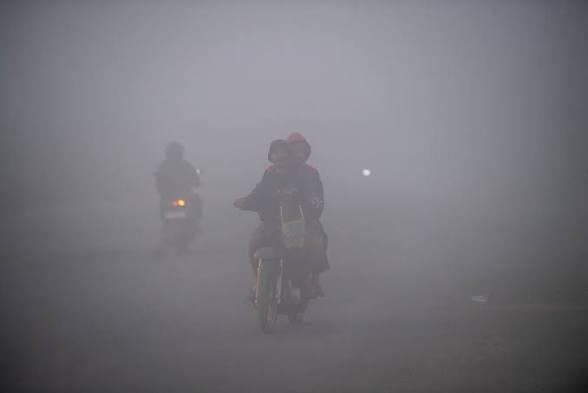Deteksi-Objek-Citra-Berasap: (0, 0, 588, 393)
Kendaraan: (249, 203, 315, 334), (160, 193, 205, 258)
Manusia: (233, 139, 322, 301), (280, 131, 330, 277), (155, 141, 200, 220)
